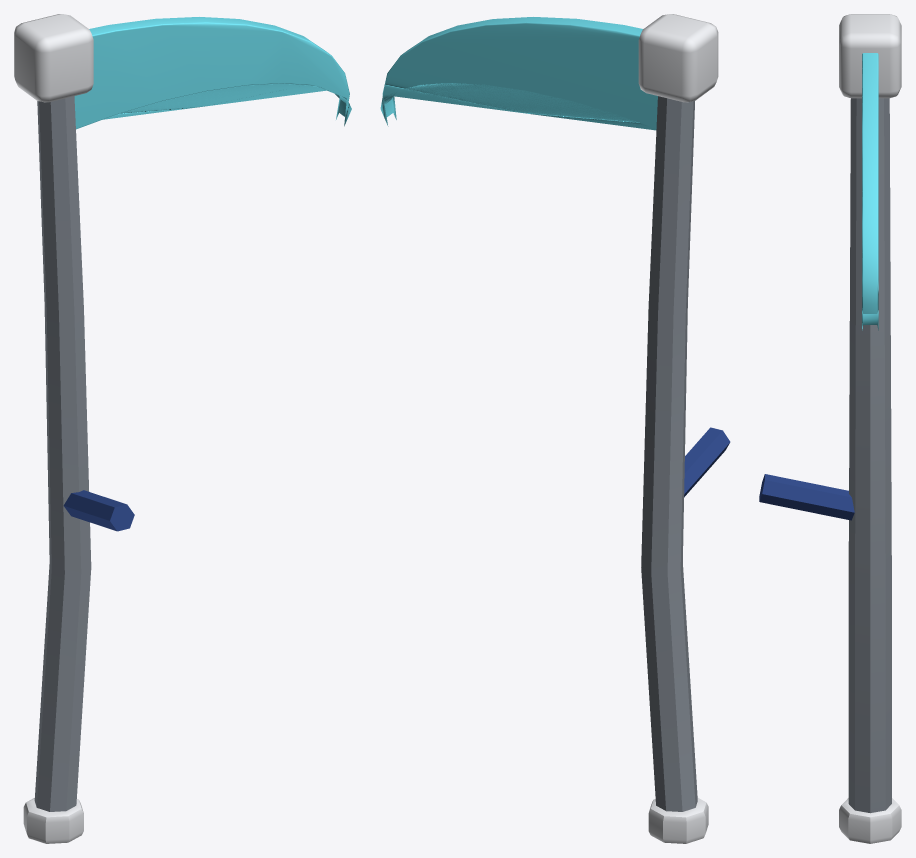
Rendered from DiamondScythe.fbx.
The picture shows the model from 3 angles, left to right: view 1: azimuth 30°, elevation 25°; view 2: azimuth 150°, elevation 25°; view 3: azimuth 270°, elevation 25°; orthographic projection.
Parts seen in each view (by area): view 1: DiamondScythe; view 2: DiamondScythe; view 3: DiamondScythe.
Boxes of the visible parts, left/top/right/bottom form: DiamondScythe: left=14, top=14, right=351, bottom=843; DiamondScythe: left=380, top=14, right=730, bottom=843; DiamondScythe: left=759, top=14, right=901, bottom=843.
Bounding box in the file's own units: 1.56 × 3.72 × 0.5913.
Materials: 1 (1 with a texture image).
